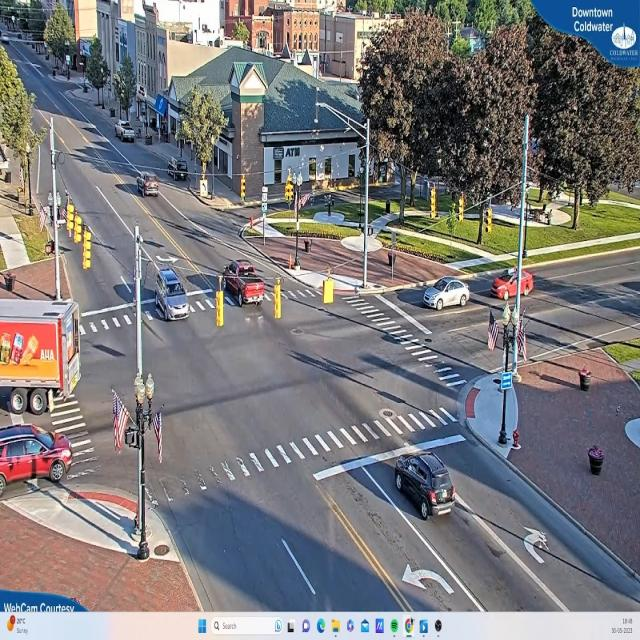car: (0, 423, 71, 491), (393, 453, 457, 521), (222, 260, 268, 308), (153, 264, 189, 322), (423, 276, 470, 310), (134, 175, 158, 198), (115, 122, 136, 143)
truck: (0, 289, 80, 420)
